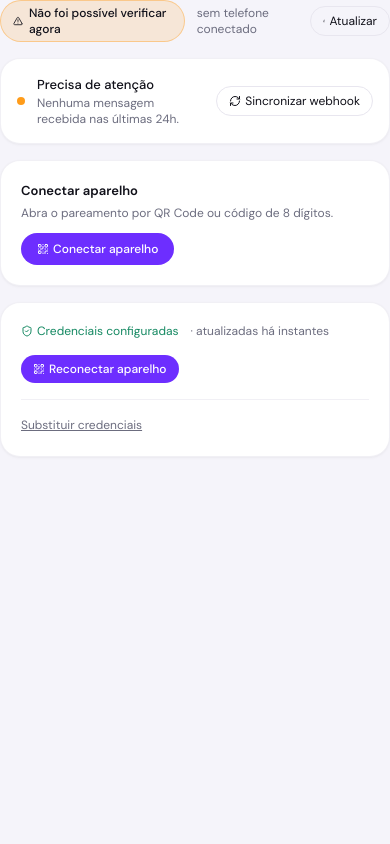
it: WhatsAppSessionPanel — Conectar aparelho (QR + código) › erro ao gerar QR mantém controles visíveis
Click the button "Conectar aparelho": coordinates (98, 249) left=21, top=233, right=174, bottom=265
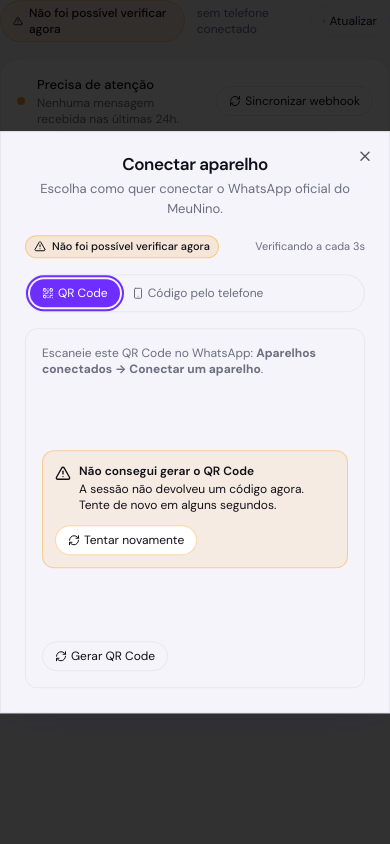
Expected: the dialog is shown
Expected: the text "Não consegui gerar o QR Code" is shown, left=79, top=463, right=254, bottom=479
Expected: the button "Tentar novamente" is shown, left=55, top=525, right=197, bottom=555
